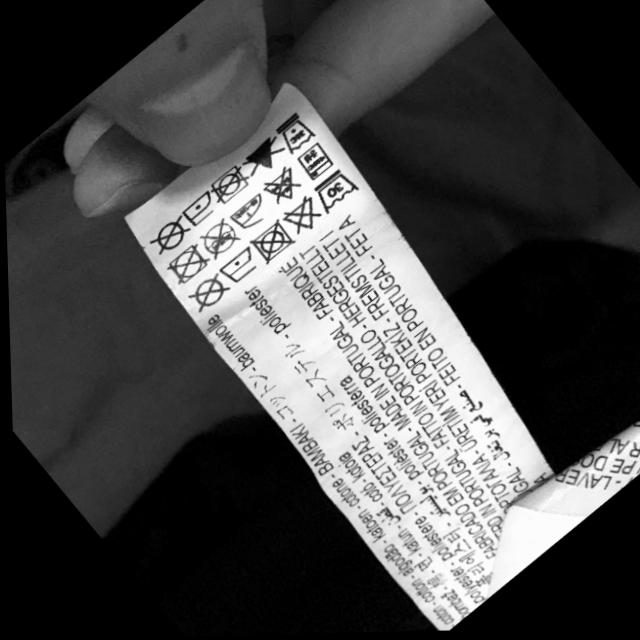30C: (316, 170, 365, 213), (300, 142, 337, 180), (283, 112, 314, 153)
DN_bleach: (244, 134, 280, 175), (285, 196, 320, 231), (266, 165, 298, 202)
DN_dry_clean: (201, 217, 239, 256), (152, 210, 186, 253), (190, 275, 229, 312)
DN_tumble_dry: (168, 241, 211, 283), (253, 220, 290, 264), (214, 165, 249, 204)
iron_low: (219, 247, 261, 283), (231, 192, 267, 230), (184, 188, 216, 227)
